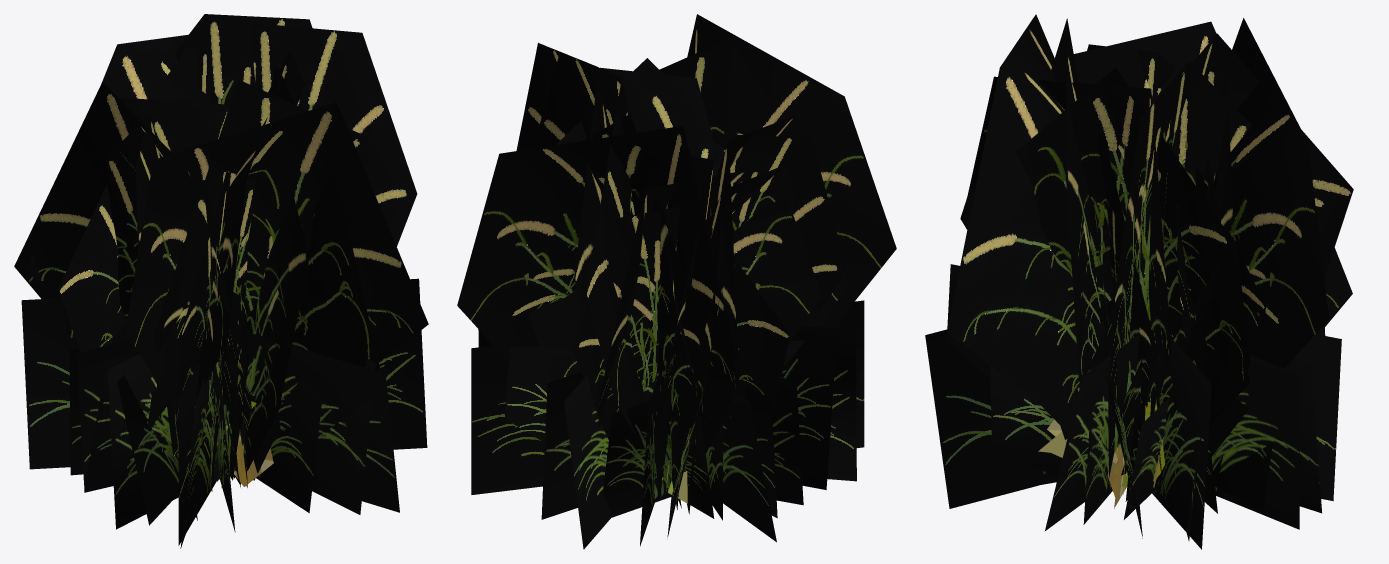
The model's file is grass_tufts_1k.gltf.
3 renders of one model, left to right at view 1: azimuth 30°, elevation 25°; view 2: azimuth 150°, elevation 25°; view 3: azimuth 270°, elevation 25°, orthographic. The views are drawn at different scales.
Parts seen in each view (by area): view 1: Grass_tall_high_002_Tall_grass_Mat_0__LOD0, Grass_tall_high_Tall_grass_Mat_0__LOD0, Grass_large_3_GrassAtlas_0__LOD0, Grass_tall_high_001_Tall_grass_Mat_0__LOD0, Grass_large_2_GrassAtlas_0__LOD0, Grass_large_1_GrassAtlas_0__LOD0, Grass_tall_low_Tall_grass_Mat_0__LOD0, Grass_tall_low_001_Tall_grass_Mat_0__LOD0, Grass_main_dry_Grass_Mat_0__LOD0; view 2: Grass_tall_high_002_Tall_grass_Mat_0__LOD0, Grass_tall_high_001_Tall_grass_Mat_0__LOD0, Grass_tall_high_Tall_grass_Mat_0__LOD0, Grass_large_3_GrassAtlas_0__LOD0, Grass_large_2_GrassAtlas_0__LOD0, Grass_large_1_GrassAtlas_0__LOD0; view 3: Grass_tall_high_002_Tall_grass_Mat_0__LOD0, Grass_tall_high_Tall_grass_Mat_0__LOD0, Grass_large_3_GrassAtlas_0__LOD0, Grass_large_1_GrassAtlas_0__LOD0, Grass_large_2_GrassAtlas_0__LOD0, Grass_tall_high_001_Tall_grass_Mat_0__LOD0, Grass_tall_low_001_Tall_grass_Mat_0__LOD0, Grass_tall_low_002_Tall_grass_Mat_0__LOD0, Grass_main_aged_Grass_Mat_0__LOD0, Grass_main_dry_001_Grass_Mat_0__LOD0.
Boxes of the visible parts, box(x1,y1,x2,y2) form: Grass_tall_high_002_Tall_grass_Mat_0__LOD0: box(14, 23, 428, 484); Grass_tall_high_Tall_grass_Mat_0__LOD0: box(63, 14, 379, 457); Grass_large_3_GrassAtlas_0__LOD0: box(21, 278, 427, 525); Grass_tall_high_001_Tall_grass_Mat_0__LOD0: box(58, 45, 306, 398); Grass_large_2_GrassAtlas_0__LOD0: box(69, 340, 322, 545); Grass_large_1_GrassAtlas_0__LOD0: box(107, 354, 212, 548); Grass_tall_low_Tall_grass_Mat_0__LOD0: box(134, 292, 293, 491); Grass_tall_low_001_Tall_grass_Mat_0__LOD0: box(112, 271, 249, 480); Grass_main_dry_Grass_Mat_0__LOD0: box(234, 434, 273, 486); Grass_tall_high_002_Tall_grass_Mat_0__LOD0: box(457, 14, 896, 453); Grass_tall_high_001_Tall_grass_Mat_0__LOD0: box(528, 67, 790, 509); Grass_tall_high_Tall_grass_Mat_0__LOD0: box(533, 38, 847, 474); Grass_large_3_GrassAtlas_0__LOD0: box(504, 330, 836, 549); Grass_large_2_GrassAtlas_0__LOD0: box(471, 300, 864, 519); Grass_large_1_GrassAtlas_0__LOD0: box(478, 325, 856, 546); Grass_tall_high_002_Tall_grass_Mat_0__LOD0: box(947, 14, 1352, 484); Grass_tall_high_Tall_grass_Mat_0__LOD0: box(946, 18, 1353, 422); Grass_large_3_GrassAtlas_0__LOD0: box(925, 264, 1341, 538); Grass_large_1_GrassAtlas_0__LOD0: box(990, 328, 1325, 549); Grass_large_2_GrassAtlas_0__LOD0: box(1083, 355, 1299, 540); Grass_tall_high_001_Tall_grass_Mat_0__LOD0: box(968, 72, 1265, 408); Grass_tall_low_001_Tall_grass_Mat_0__LOD0: box(1076, 267, 1211, 492); Grass_tall_low_002_Tall_grass_Mat_0__LOD0: box(1058, 299, 1215, 410); Grass_main_aged_Grass_Mat_0__LOD0: box(1038, 402, 1165, 486); Grass_main_dry_001_Grass_Mat_0__LOD0: box(1047, 387, 1163, 508).
Size of the model in its own units: 0.8423 by 0.996 by 0.9197.
Materials: 3 (3 with a texture image).
